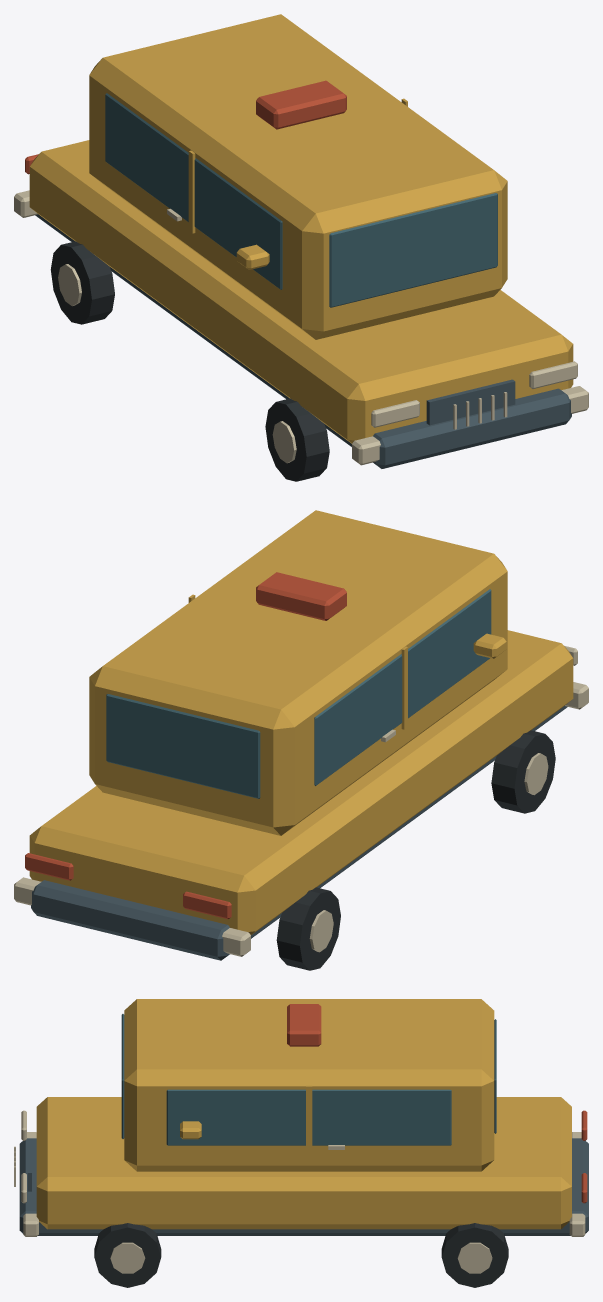
The model's file is vehicle_ambulance.glb.
3 views of the same model, one above another, from view 1: azimuth 30°, elevation 25°; view 2: azimuth 150°, elevation 25°; view 3: azimuth 270°, elevation 25° (orthographic). The views are drawn at different scales.
Parts seen in each view (by area): view 1: vehicle_ambulance; view 2: vehicle_ambulance; view 3: vehicle_ambulance.
Part boxes in pixels (x1,y1,x2,y2): vehicle_ambulance: (14, 14, 588, 481); vehicle_ambulance: (14, 510, 588, 970); vehicle_ambulance: (14, 999, 588, 1287).
Size of the model in its own units: 2.48 by 2.49 by 5.86.
